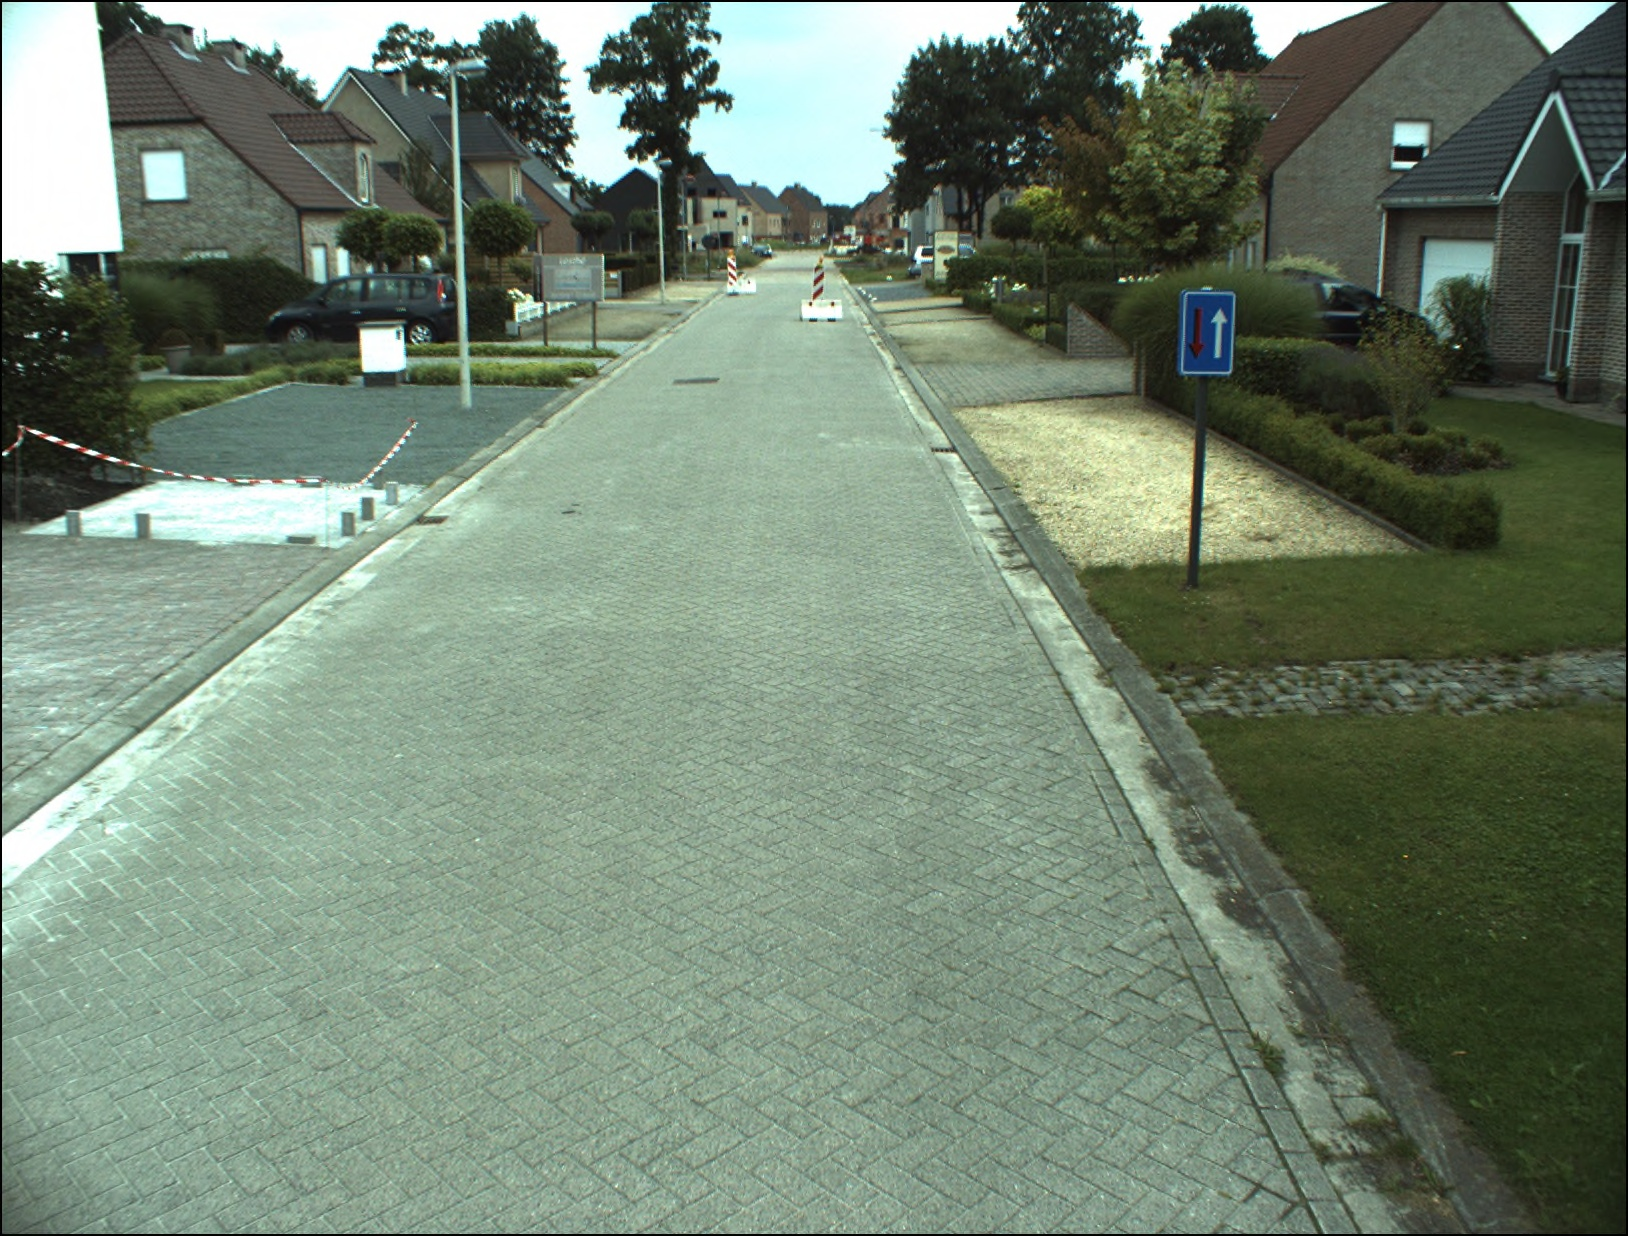roadnarrow1: (1183, 290, 1239, 373)
